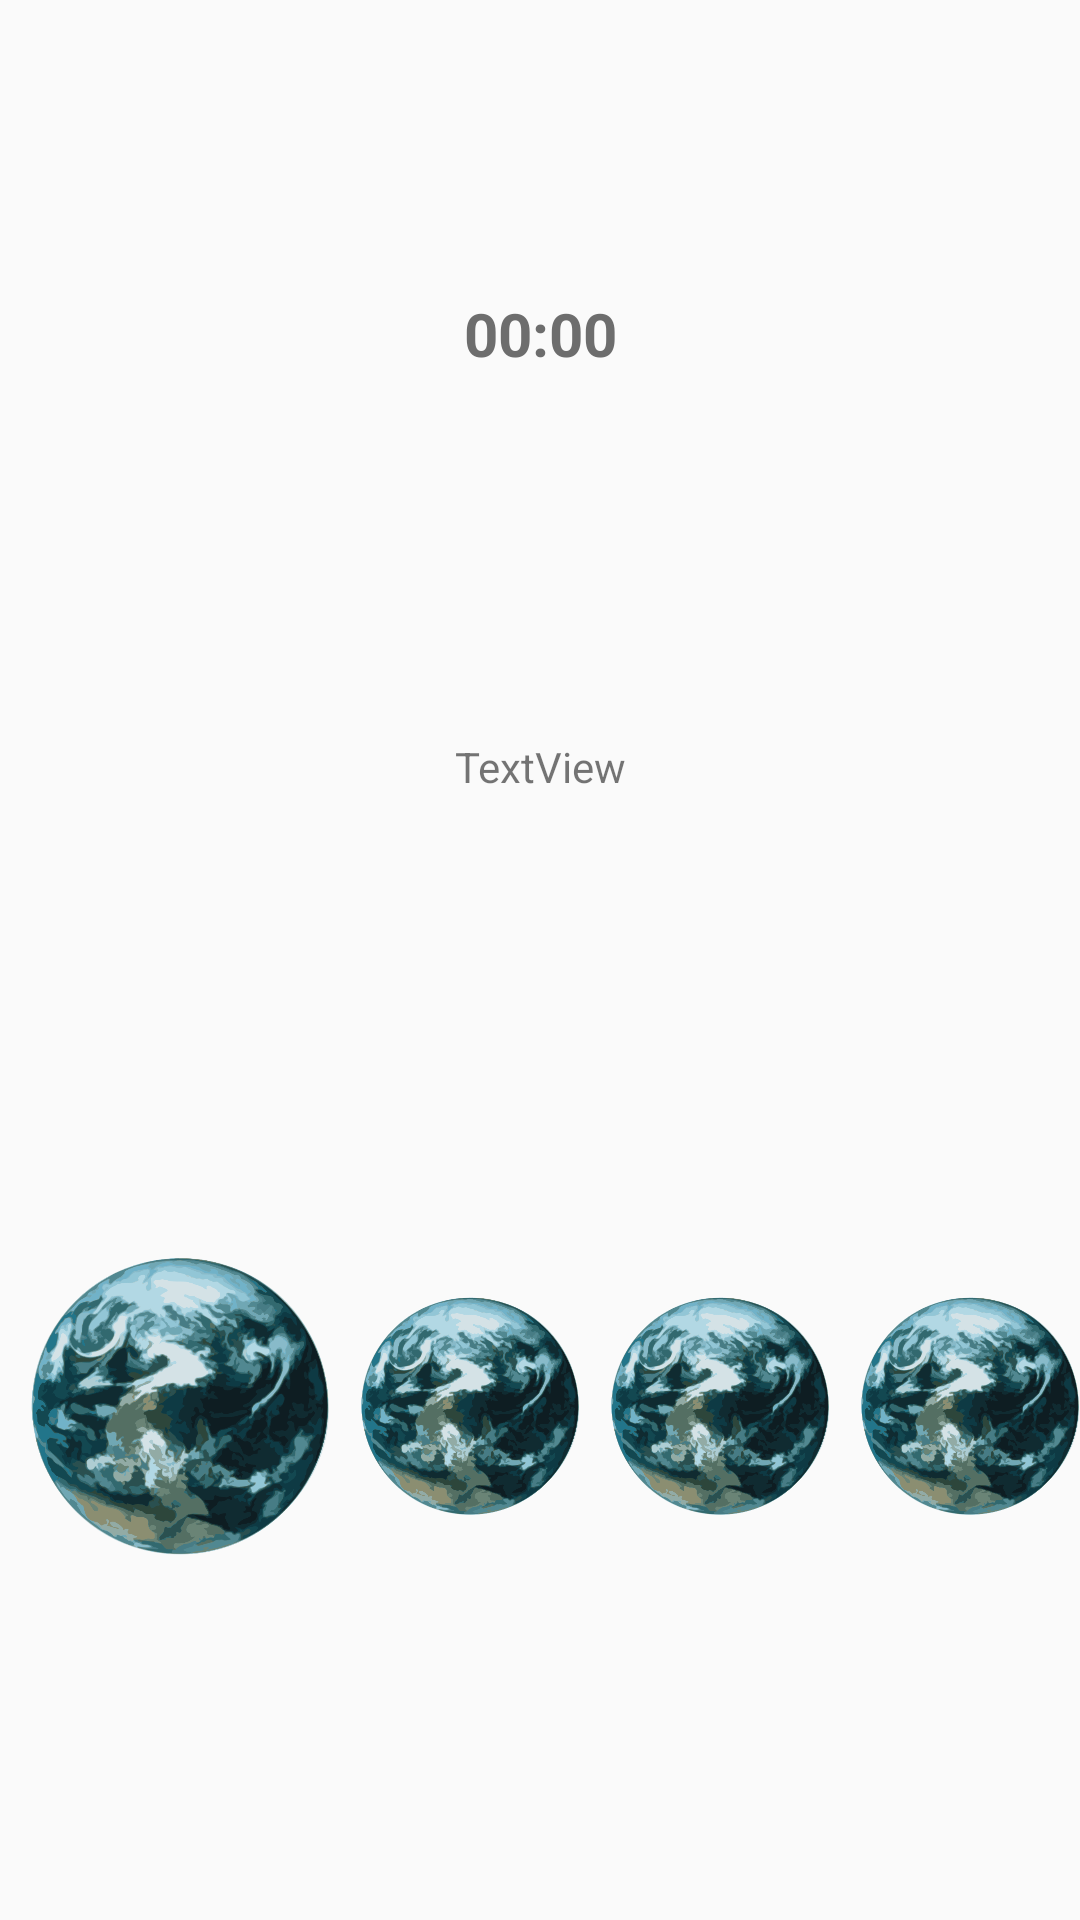

Icon click points for this 1080x1920 phone screenshot, format (x,y):
earth: (180,1406), (470,1406), (720,1406), (970,1406)
